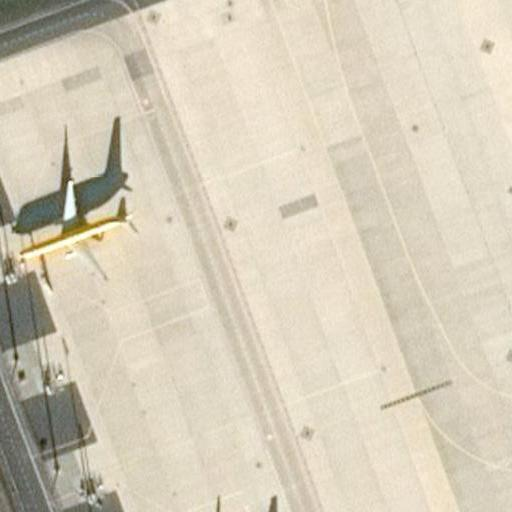Aircraft: (11, 167, 138, 282), (15, 170, 138, 273)
